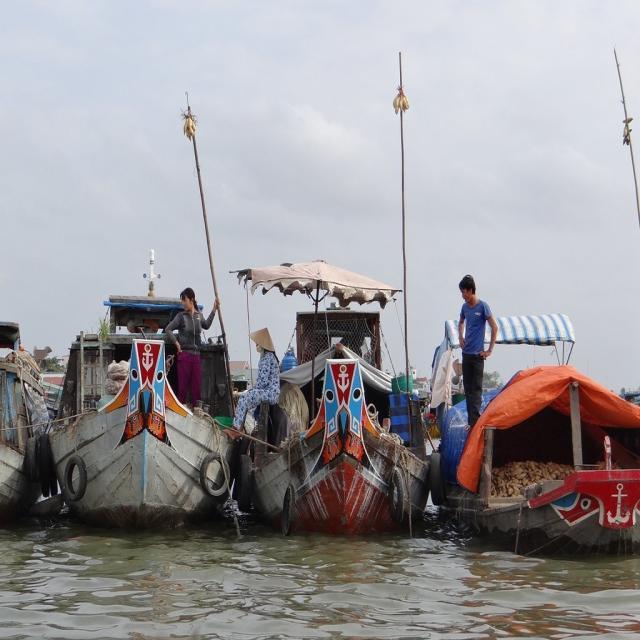boat: (418, 321, 640, 554), (237, 292, 433, 544), (54, 310, 228, 536)
